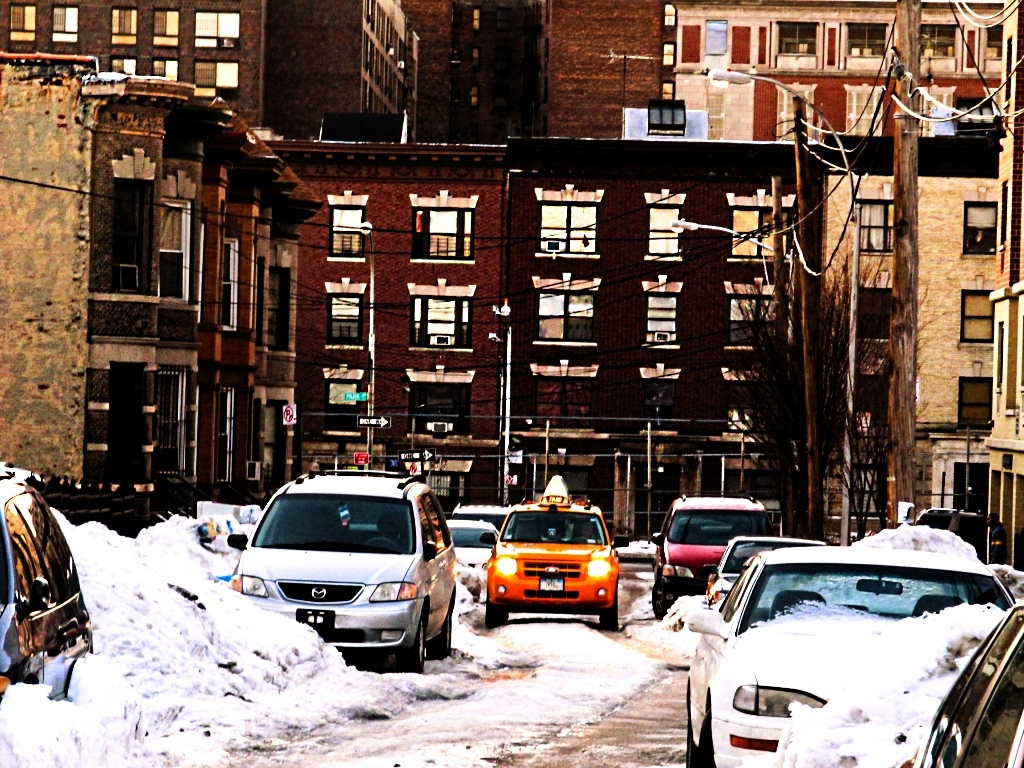mobil: (705, 552, 1003, 768), (239, 469, 464, 662), (503, 507, 628, 635)
